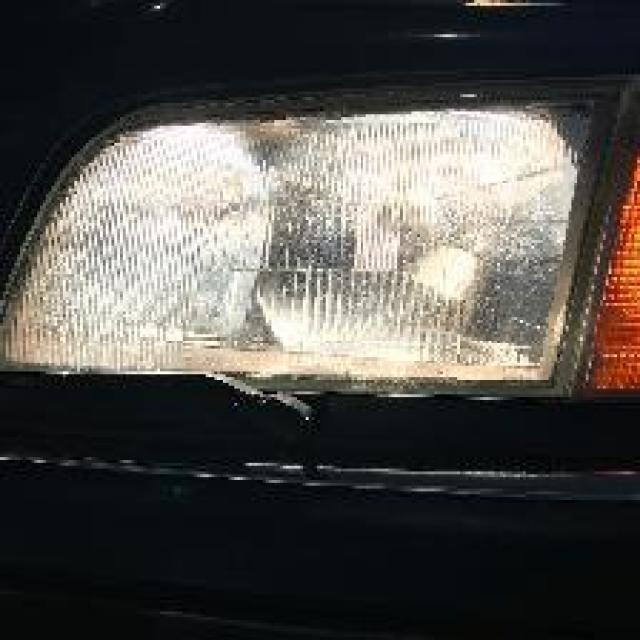damaged: (194, 368, 369, 426)
